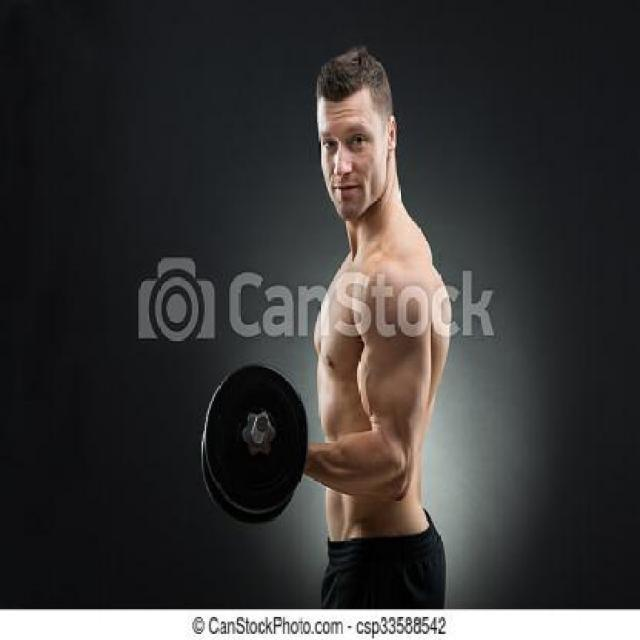Barbell: (254, 410, 272, 438)
